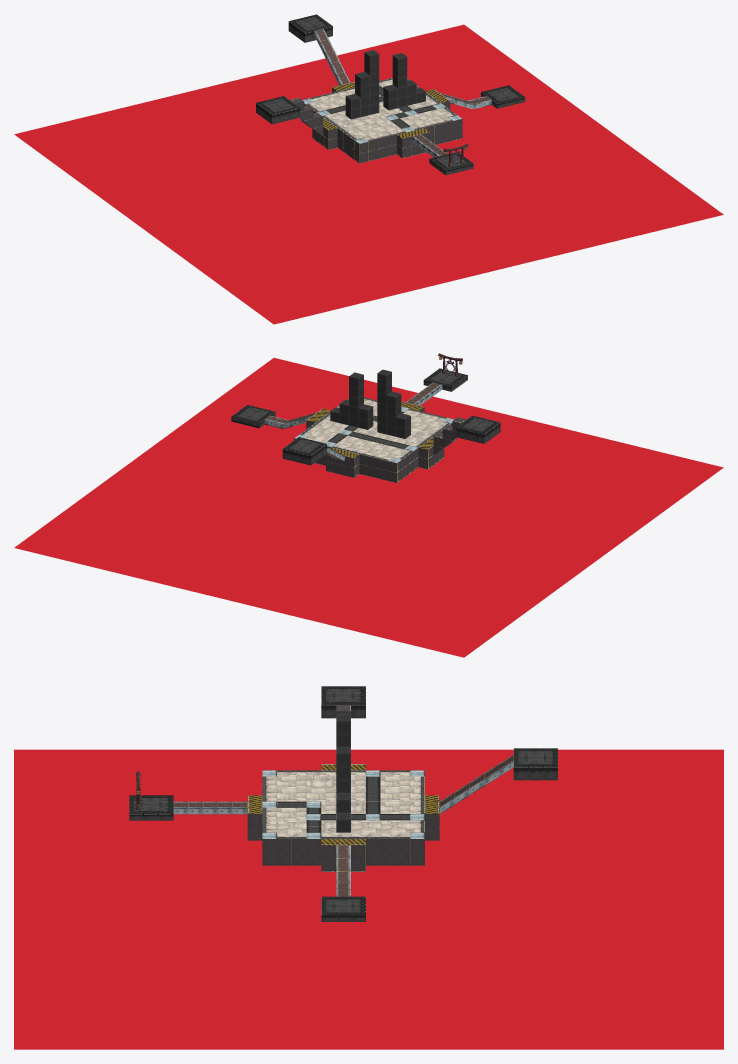
The model's file is test-zone2.glb.
3 views of the same model, one above another, from view 1: azimuth 30°, elevation 25°; view 2: azimuth 150°, elevation 25°; view 3: azimuth 270°, elevation 25° (orthographic). The views are drawn at different scales.
Parts seen in each view (by area): view 1: DeathPlane, Frame_0.016; view 2: DeathPlane, Frame_0.016; view 3: DeathPlane, Frame_0.016.
Part boxes in pixels (x1,y1,x2,y2): DeathPlane: (14, 24, 723, 324); Frame_0.016: (256, 14, 525, 175); DeathPlane: (14, 358, 723, 657); Frame_0.016: (231, 368, 500, 482); DeathPlane: (14, 749, 723, 1049); Frame_0.016: (129, 686, 557, 921).
Size of what is drawn, in the model's own units: 240 by 66.19 by 240.
Materials: 14 (13 with a texture image).
